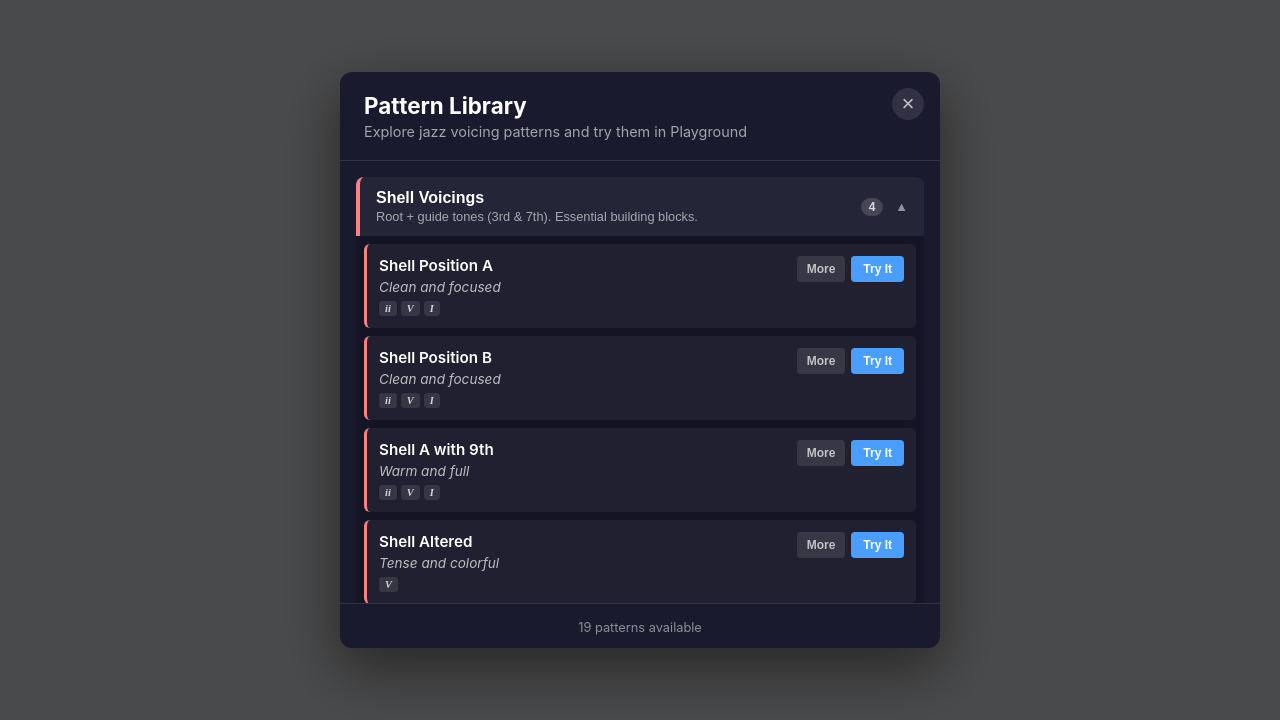
PatternBrowser › toggles category expansion
Expected: the heading "Shell Position A" is shown, [379,256,493,275]
Collapse shell
Click the heading "Shell Voicings" at (430, 198), box [376,189,484,206]
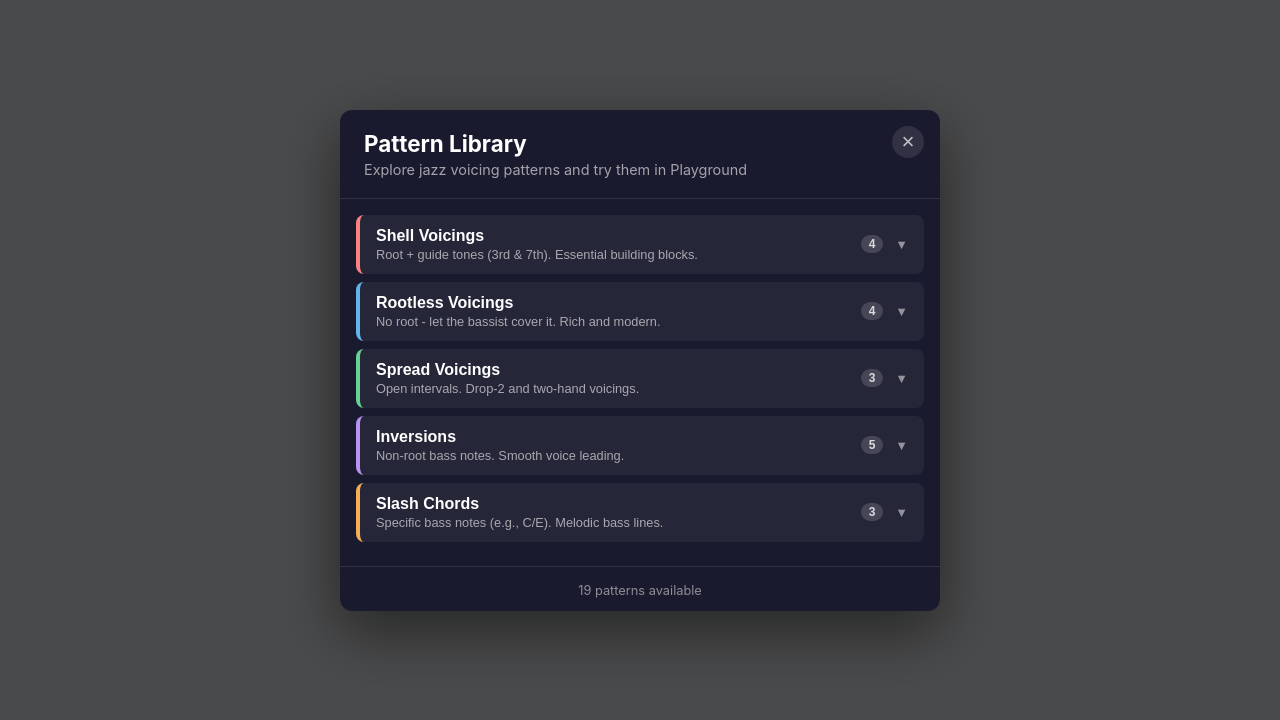
Result: the heading "Shell Position A" is gone
